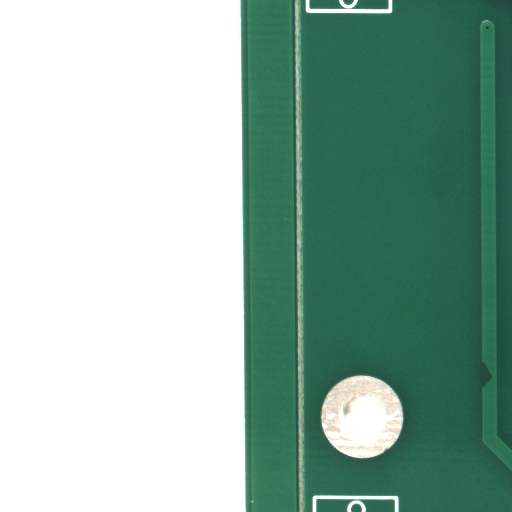Mouse_bite: (485, 372, 508, 418)
